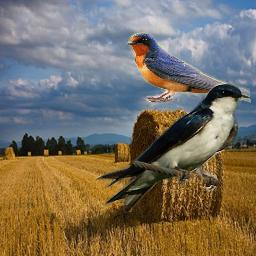Swallow: (94, 83, 244, 213), (124, 30, 251, 107)
